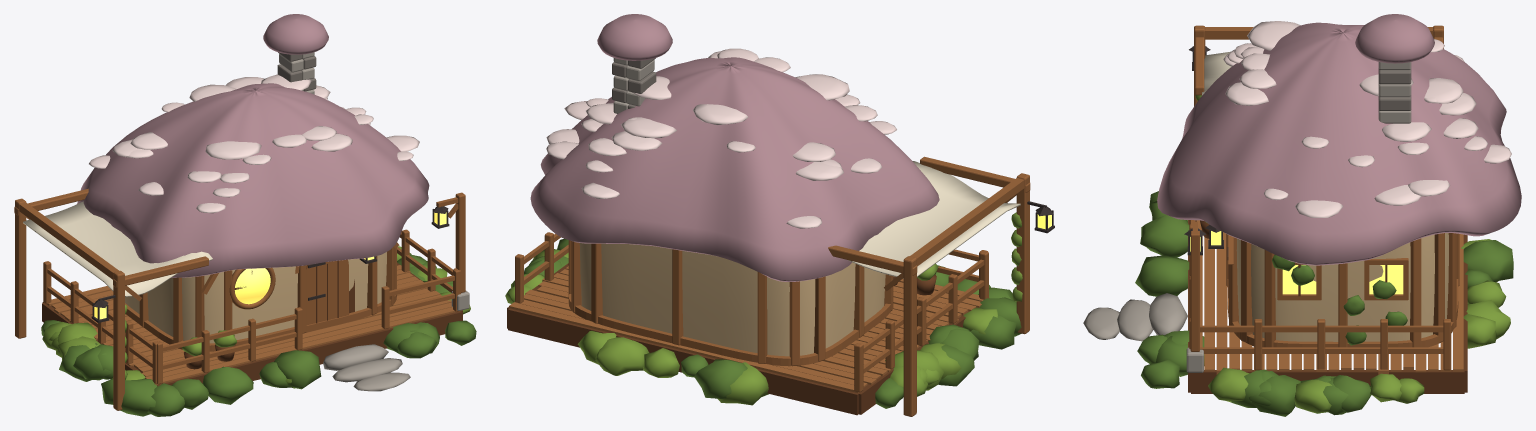
Rendered from cottage2.glb.
3 renders of one model, left to right at view 1: azimuth 30°, elevation 25°; view 2: azimuth 150°, elevation 25°; view 3: azimuth 270°, elevation 25°, orthographic. The views are drawn at different scales.
Visible parts, largest first — view 1: cap, timber, leaf, spot, deck, plaster, canvas, stone, timber_dark, leaf_light, glass, metal (+1 smaller); view 2: cap, timber, plaster, spot, leaf_light, deck, leaf, canvas, timber_dark, stone, stone_dark; view 3: cap, timber, leaf, spot, plaster, deck, leaf_light, stone, timber_dark, glass, stone_dark, canvas (+1 smaller).
Boxes of the visible parts, x1=… form: cap: x1=77, y1=14, x2=429, y2=277; timber: x1=14, y1=188, x2=465, y2=410; leaf: x1=41, y1=254, x2=476, y2=416; spot: x1=89, y1=74, x2=419, y2=213; deck: x1=47, y1=265, x2=461, y2=384; plaster: x1=125, y1=252, x2=386, y2=343; canvas: x1=23, y1=201, x2=212, y2=296; stone: x1=279, y1=52, x2=469, y2=391; timber_dark: x1=42, y1=261, x2=462, y2=386; leaf_light: x1=42, y1=246, x2=470, y2=388; glass: x1=94, y1=212, x2=446, y2=319; metal: x1=91, y1=206, x2=449, y2=322; cap: x1=530, y1=14, x2=939, y2=281; timber: x1=515, y1=156, x2=1030, y2=416; plaster: x1=579, y1=243, x2=885, y2=356; spot: x1=546, y1=48, x2=896, y2=228; leaf_light: x1=505, y1=212, x2=1022, y2=405; deck: x1=509, y1=263, x2=989, y2=393; leaf: x1=524, y1=238, x2=1021, y2=408; canvas: x1=848, y1=161, x2=1020, y2=278; timber_dark: x1=507, y1=263, x2=978, y2=415; stone: x1=613, y1=58, x2=654, y2=113; stone_dark: x1=612, y1=58, x2=656, y2=108; cap: x1=1157, y1=14, x2=1521, y2=265; timber: x1=1189, y1=25, x2=1459, y2=370; leaf: x1=1135, y1=191, x2=1513, y2=416; spot: x1=1223, y1=21, x2=1511, y2=217; plaster: x1=1236, y1=233, x2=1448, y2=341; deck: x1=1197, y1=220, x2=1463, y2=374; leaf_light: x1=1182, y1=95, x2=1510, y2=413; stone: x1=1083, y1=62, x2=1411, y2=372; timber_dark: x1=1188, y1=220, x2=1467, y2=393; glass: x1=1190, y1=231, x2=1403, y2=294; stone_dark: x1=1378, y1=68, x2=1411, y2=125; canvas: x1=1202, y1=51, x2=1231, y2=95.
Size of the model in its own units: 12.99 by 8.63 by 10.1.
